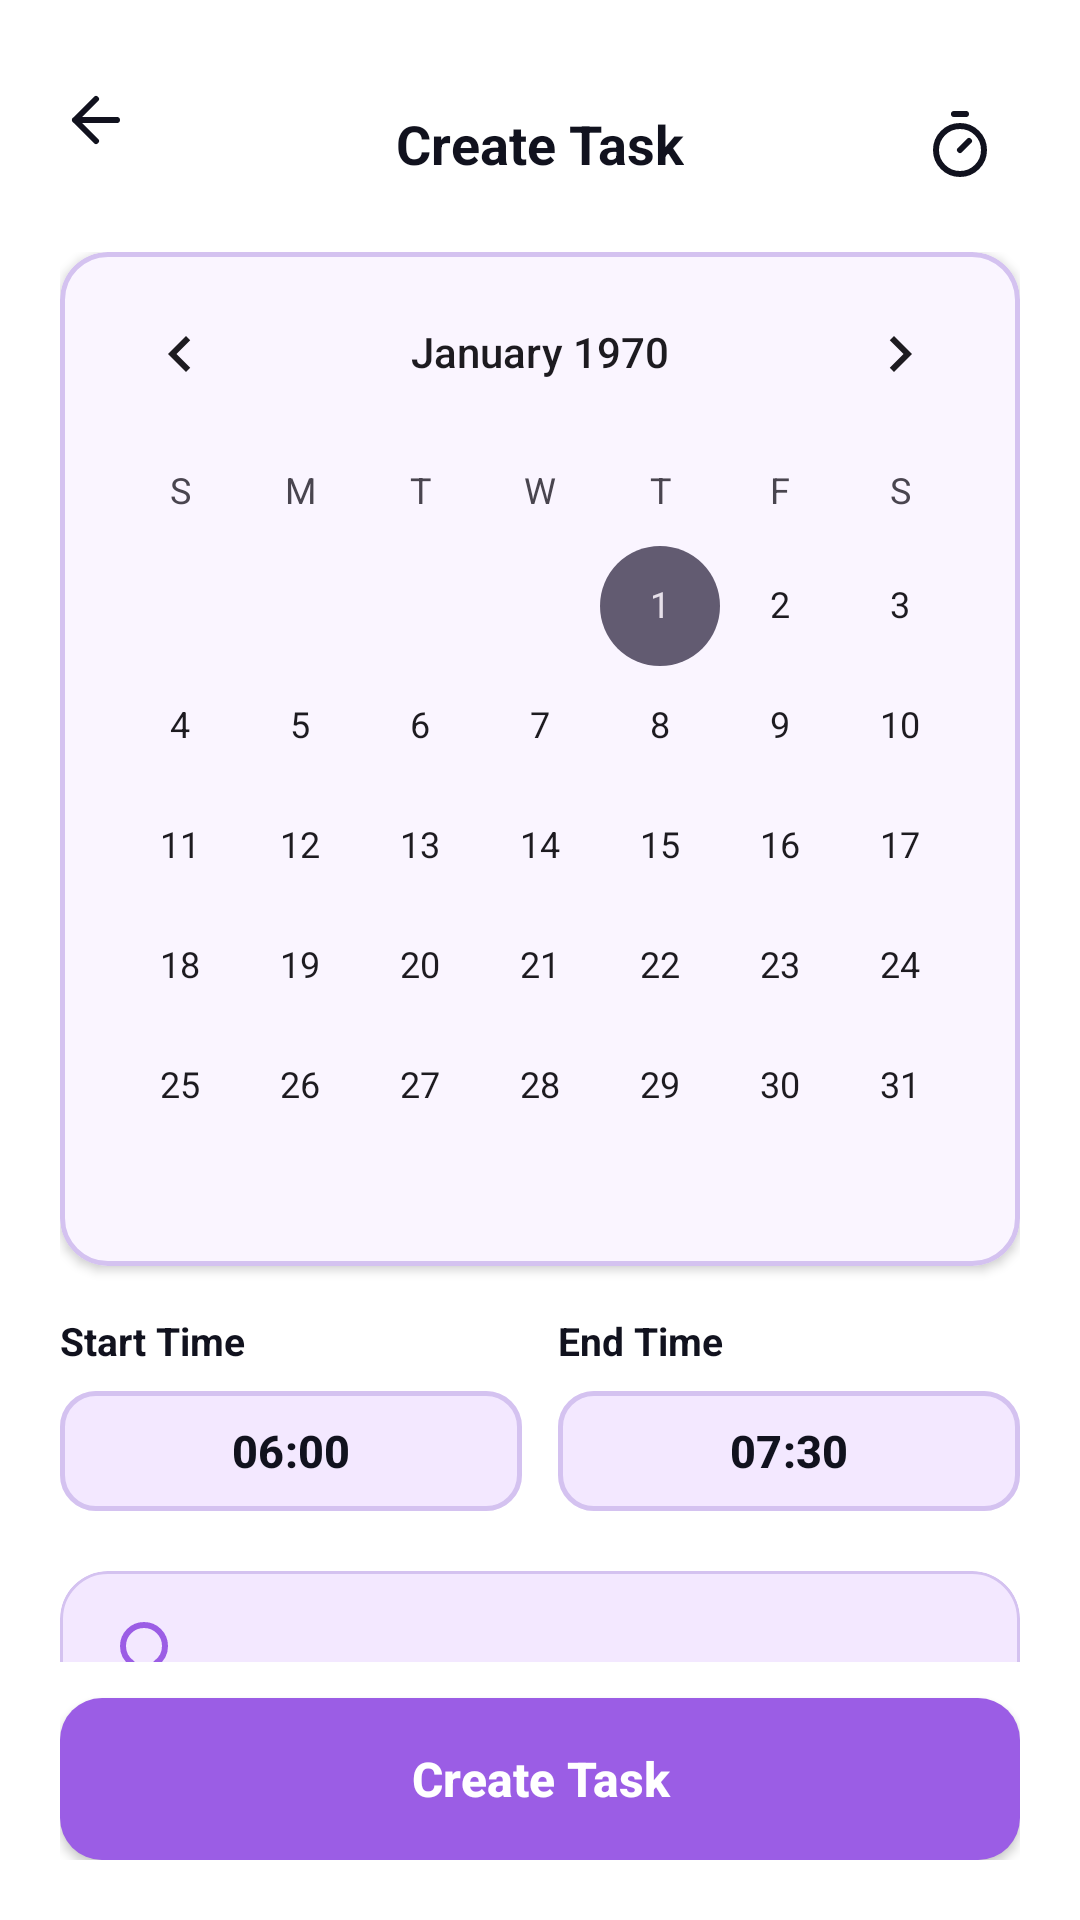

Point at icon controls on the screen. Image size 1080w x 1920h, points as (x,y).
back: (96,120)
timer: (960,144)
